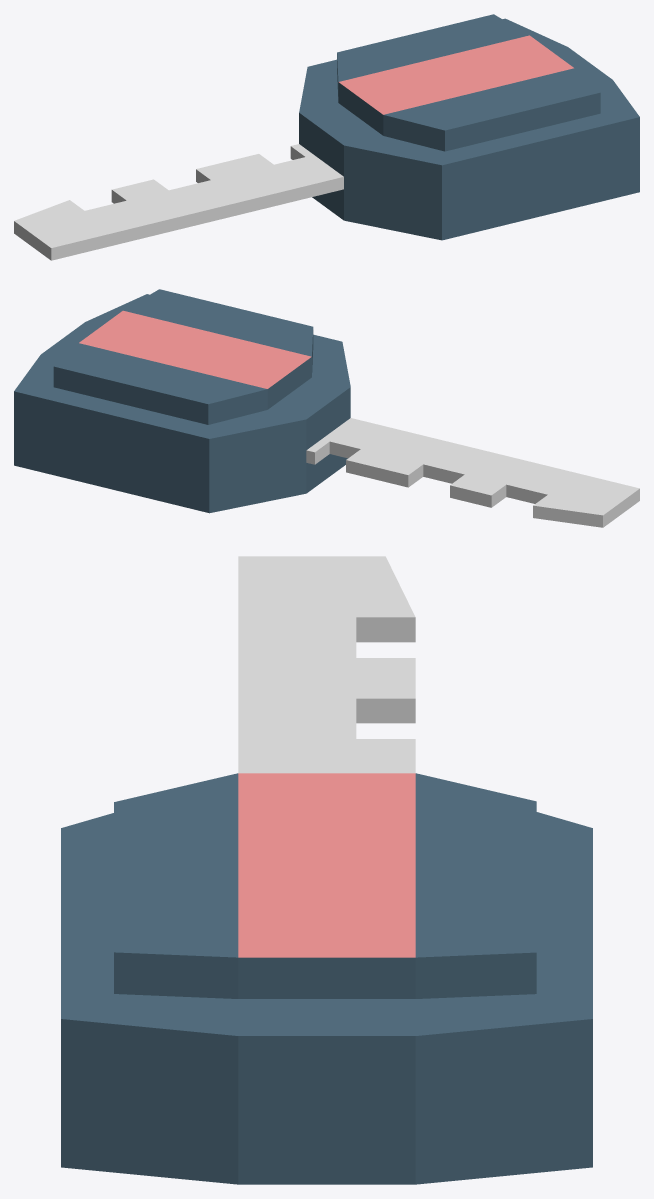
Rendered from SM_CarKey.fbx.
The picture shows the model from 3 angles, top to bottom: view 1: azimuth 30°, elevation 25°; view 2: azimuth 150°, elevation 25°; view 3: azimuth 270°, elevation 25°; orthographic projection. The views are drawn at different scales.
Visible parts, largest first — view 1: SM_CarKeys; view 2: SM_CarKeys; view 3: SM_CarKeys.
Part boxes in pixels (bbox=[...]): SM_CarKeys: bbox=[14, 14, 639, 260]; SM_CarKeys: bbox=[14, 289, 639, 527]; SM_CarKeys: bbox=[61, 556, 592, 1184].
Size of the model in its own units: 33.64 by 5.5 by 13.96.
